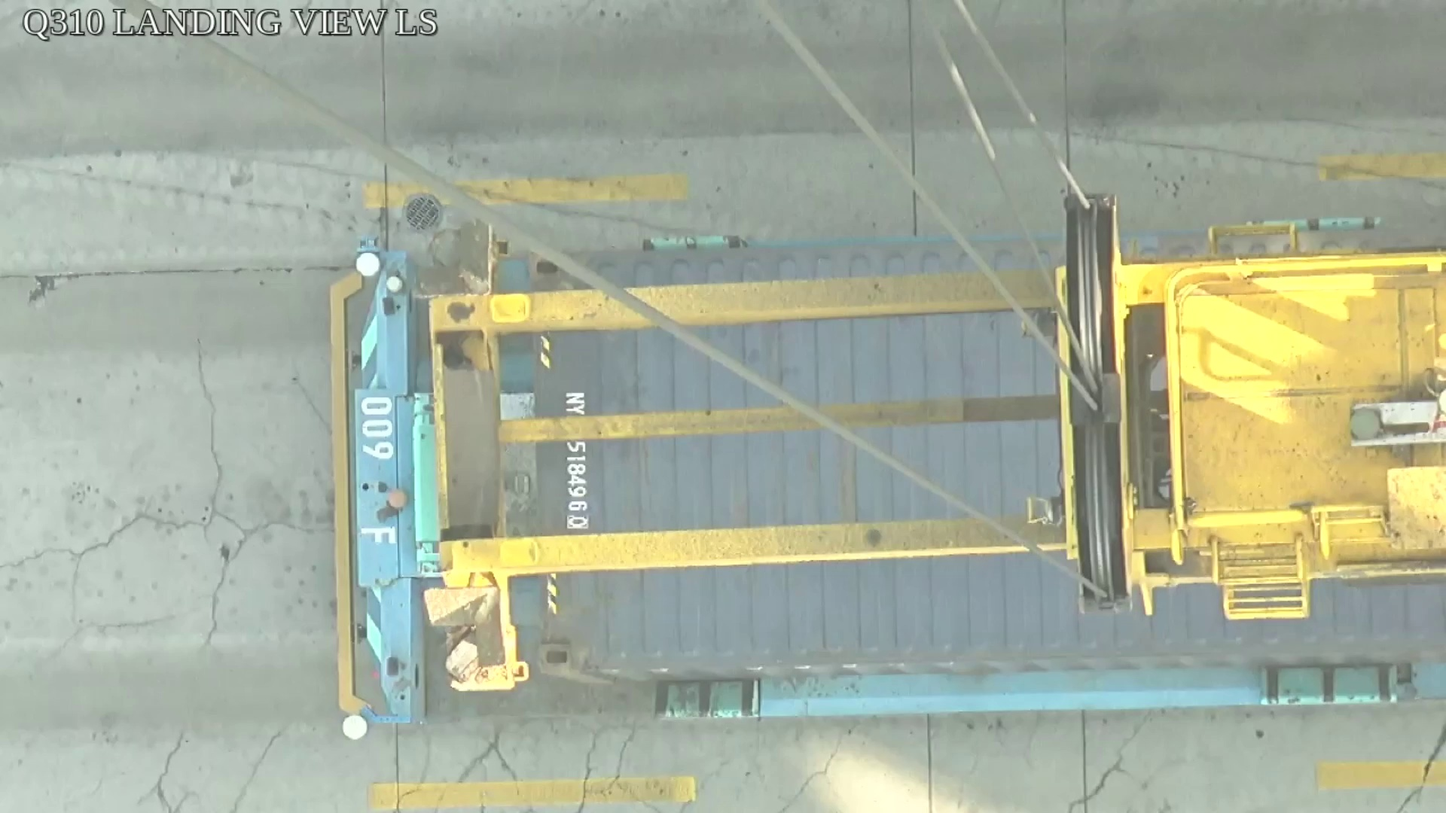aa: (1059, 195, 1138, 615)
